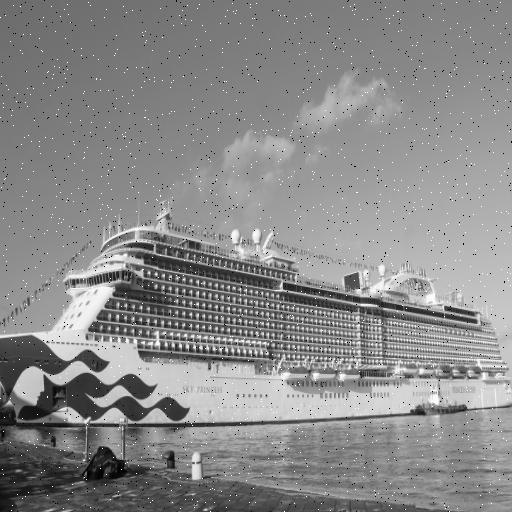cruises: (1, 190, 512, 434)
